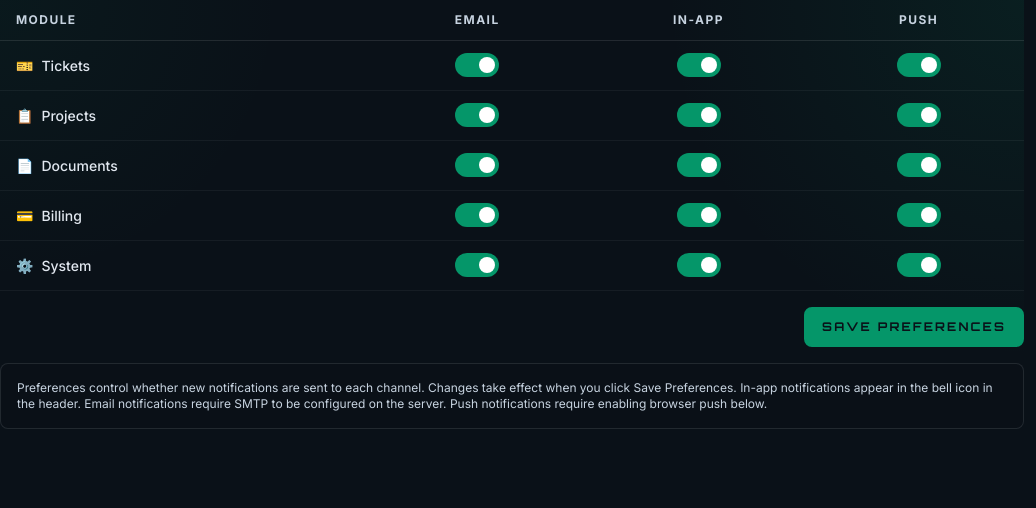
Test: NotificationPreferencesClient › saves preferences and shows the success banner
Step 1. Click the button "Save Preferences" → (914, 327), box [804,307,1024,347]
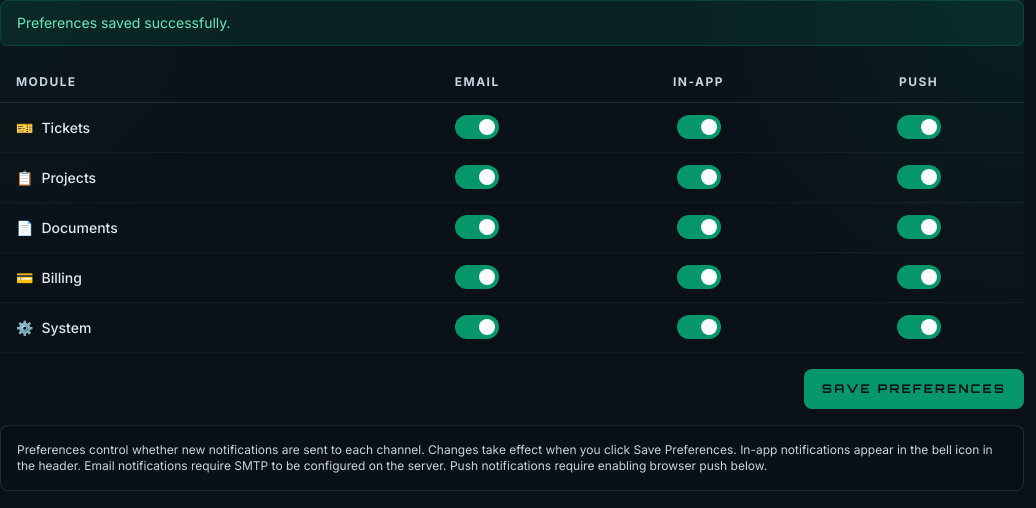
Expected: the text "Preferences saved successfully." is shown, [0,0,1024,46]
